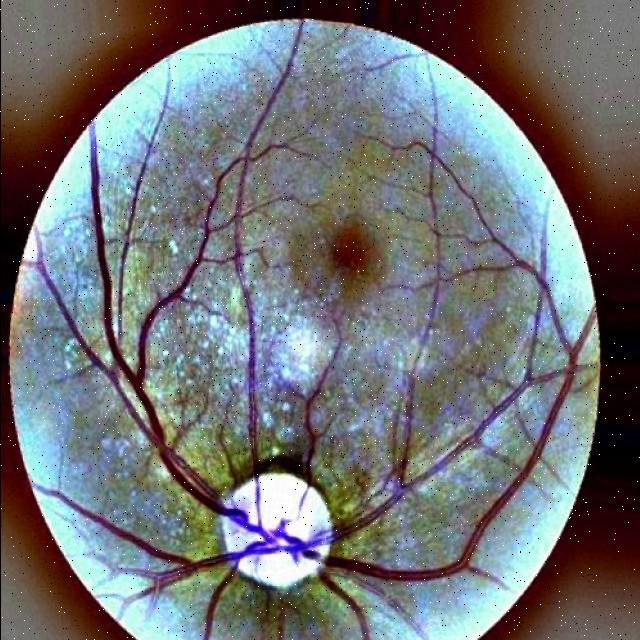Macula: (330, 222, 370, 279)
Nerves: (23, 19, 589, 640)
Optic Disk: (221, 472, 332, 589)
